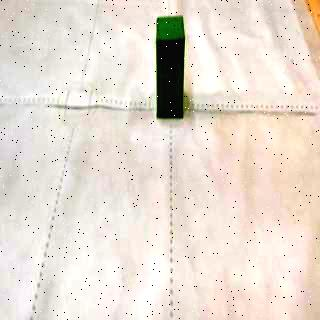greenbox: (158, 19, 184, 119)
